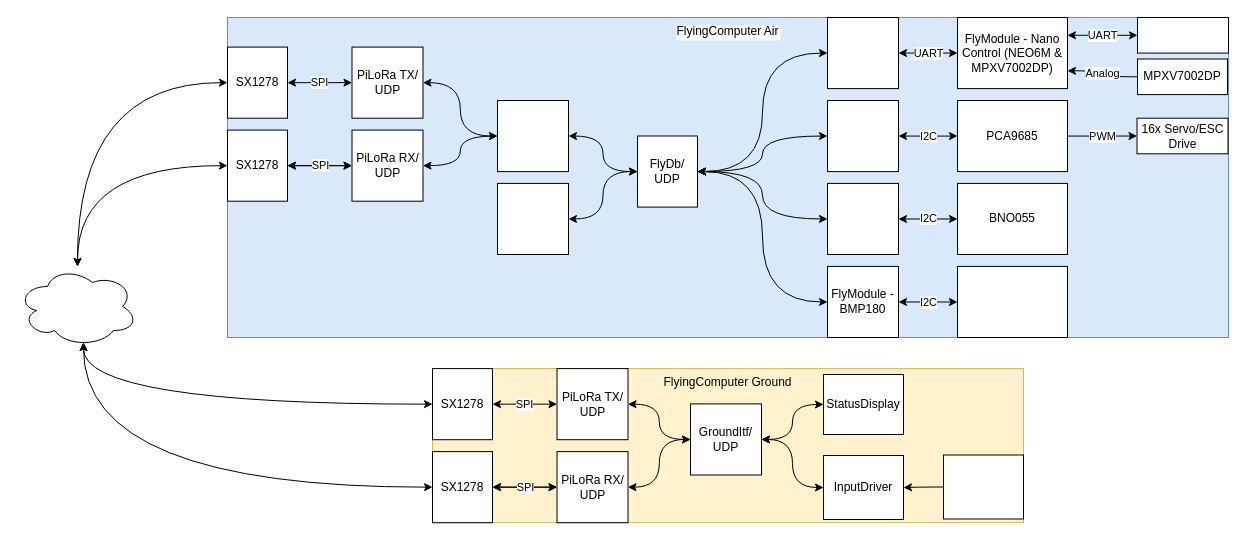
Some shapes in this 1246 by 541 pixel diagram are drawn without their labels. Here are the shapes that lost their labels. From the top down, the centre of each, then its label:
At [862,52]: "FlyModule - Nano Itf".
At [1182,34]: "NEO6M".
At [532,136]: "FlyItf".
At [862,136]: "FlyModule - PCA9685".
At [532,218]: "FlyBasic".
At [862,218]: "FlyModule - BNO055".
At [77,306]: "OTA".
At [1012,301]: "BMP180".
At [983,486]: "JS/KB".
